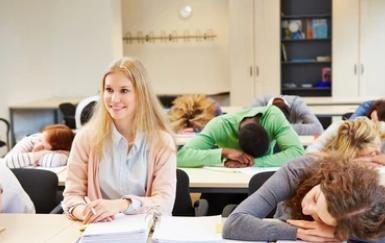sleep: (221, 159, 385, 243), (177, 107, 305, 167), (251, 92, 324, 138), (307, 118, 385, 158), (5, 124, 72, 168), (347, 99, 385, 121)
study: (64, 62, 174, 221)
